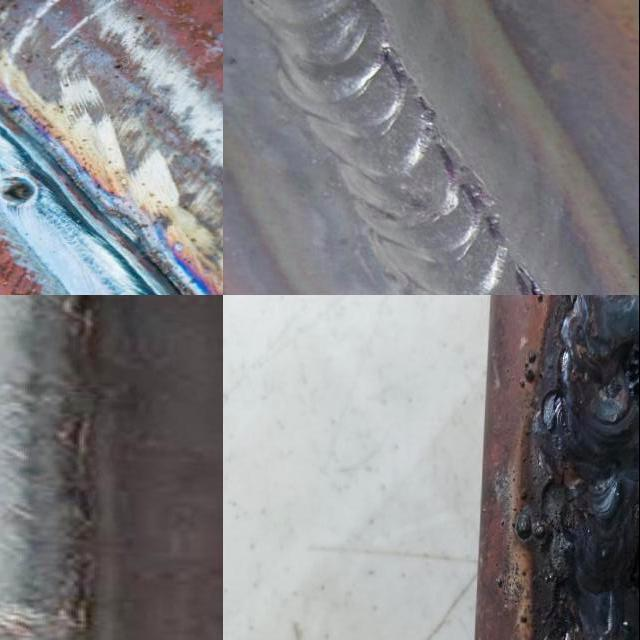defect: (1, 176, 43, 207), (626, 339, 640, 413)
